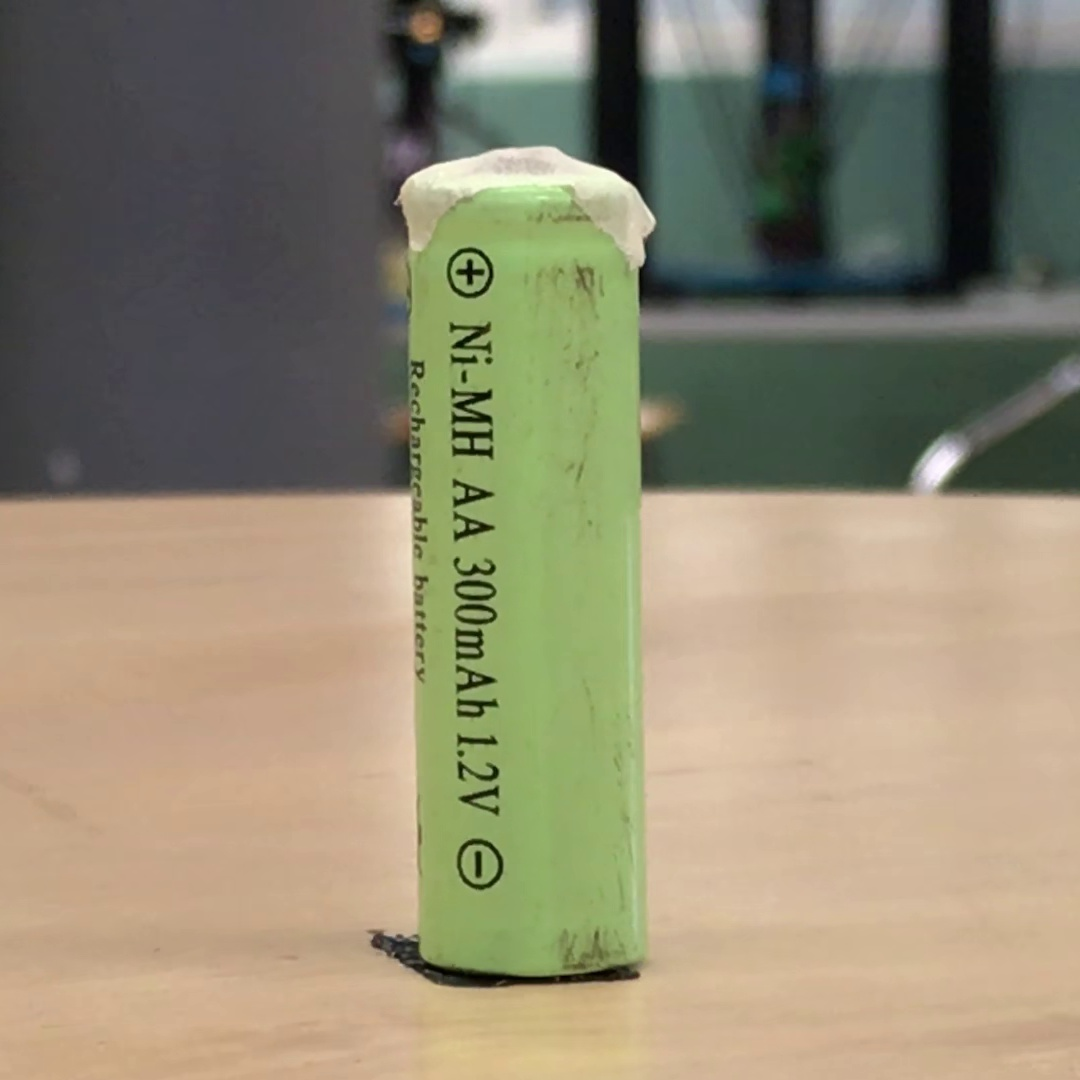keyword: (440, 312, 503, 468), (447, 724, 510, 826)
